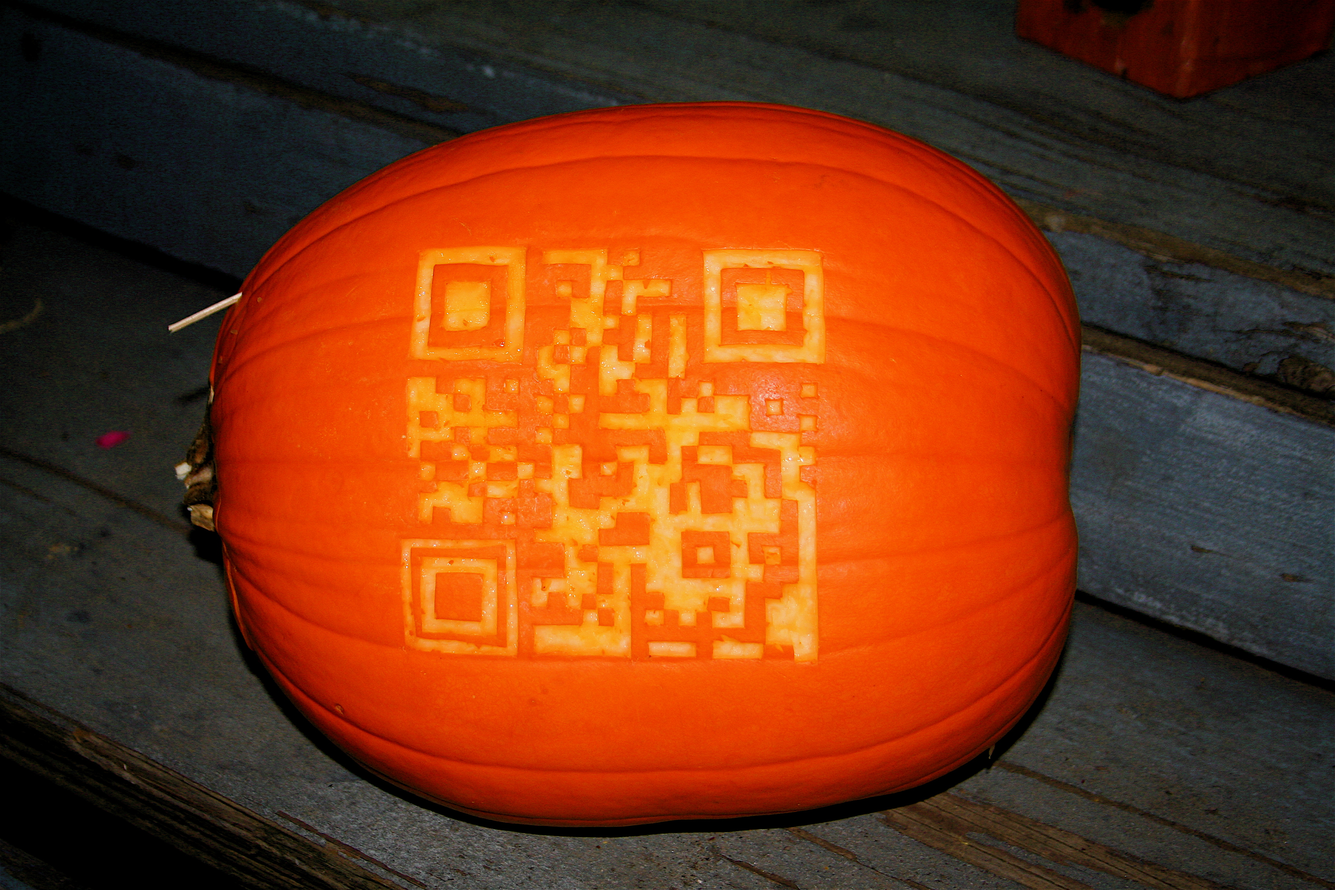QR-CODE: (402, 248, 824, 660)
